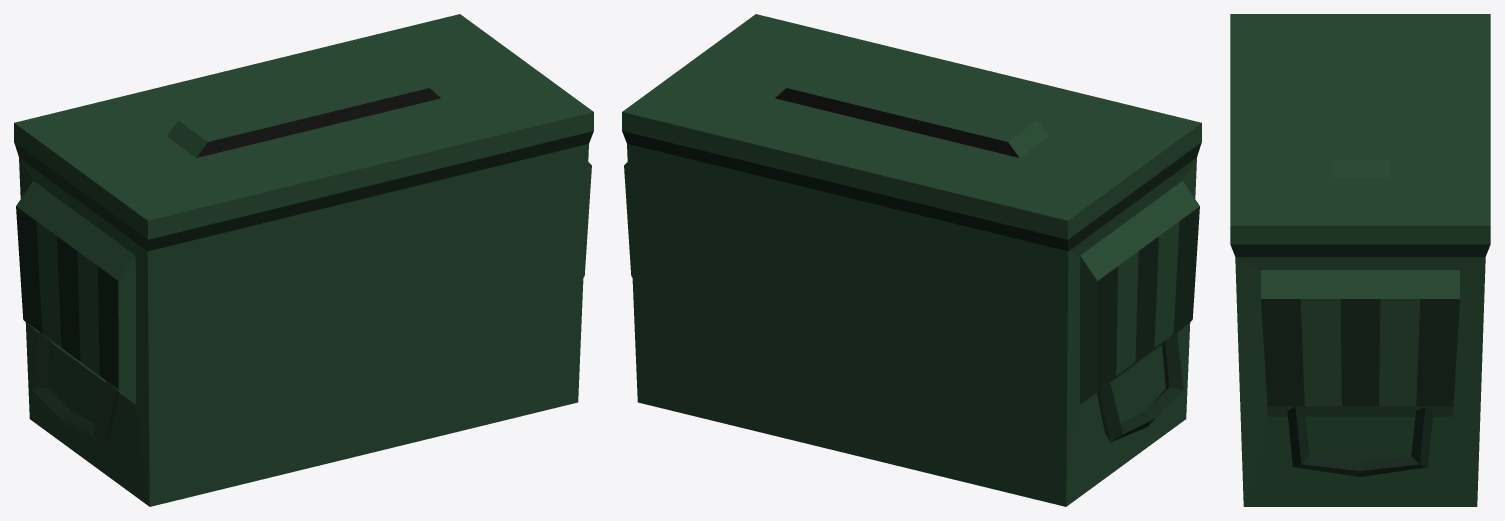
The model's file is weapons_ammo-box-bullets.fbx.
The picture shows the model from 3 angles, left to right: view 1: azimuth 30°, elevation 25°; view 2: azimuth 150°, elevation 25°; view 3: azimuth 270°, elevation 25°; orthographic projection. The views are drawn at different scales.
Parts seen in each view (by area): view 1: weapons_ammo_box_bullets; view 2: weapons_ammo_box_bullets; view 3: weapons_ammo_box_bullets.
Part boxes in pixels (x1,y1,x2,y2): weapons_ammo_box_bullets: (14,14,593,506); weapons_ammo_box_bullets: (622,14,1201,506); weapons_ammo_box_bullets: (1230,14,1490,506).
Bounding box in the file's own units: 200 × 121 × 95.83.
